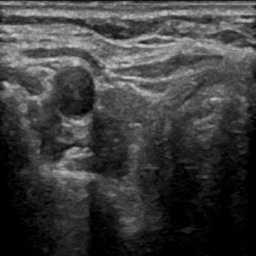mass: (90, 91, 144, 177)
